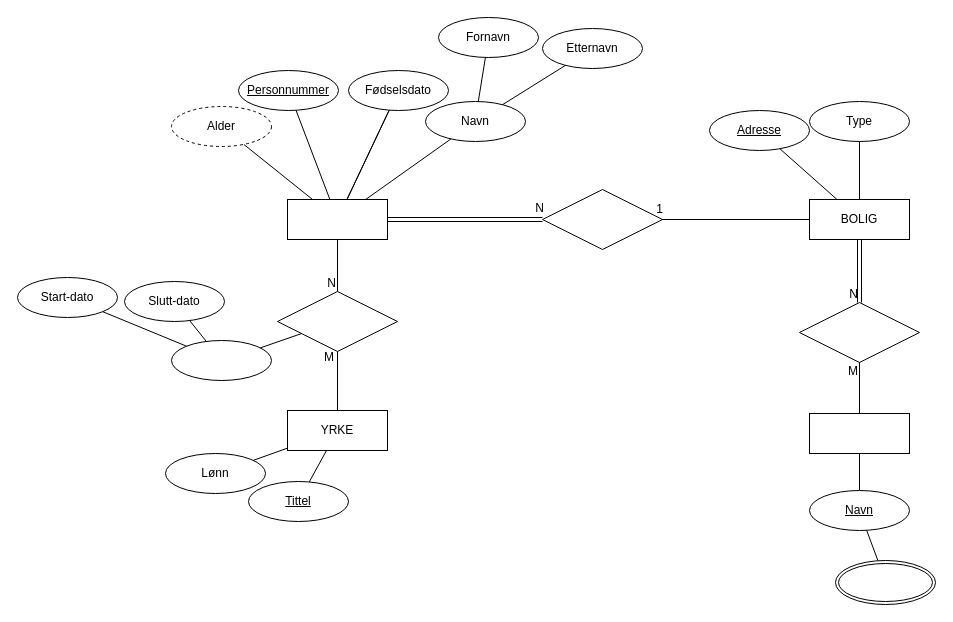
The diagram is 953 pixels wide and 622 high, and some of its shapes have lost their labels. Here are the shapes that lost their labels. From the top down, the centre of each, then its label:
At (x=337, y=219): "MENNESKE".
At (x=602, y=219): "BOR_I_".
At (x=337, y=321): "_UTFØRER_".
At (x=859, y=332): "Inneholder".
At (x=221, y=360): "Varighet".
At (x=859, y=433): "ROM".
At (x=885, y=582): "Bruksområder".
